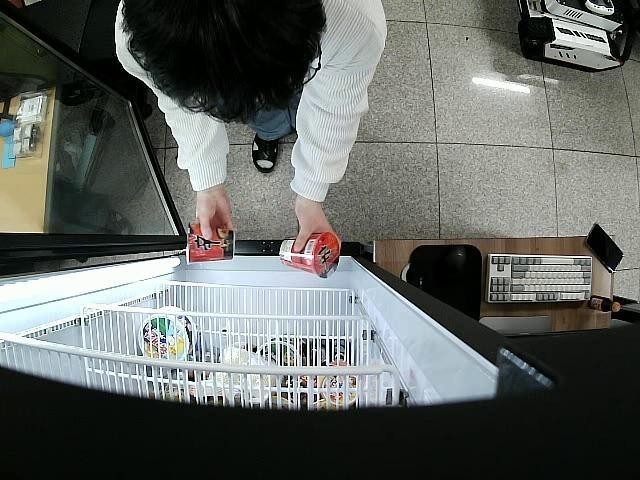02_shinRamen_S: (278, 232, 340, 276), (186, 224, 236, 263)
